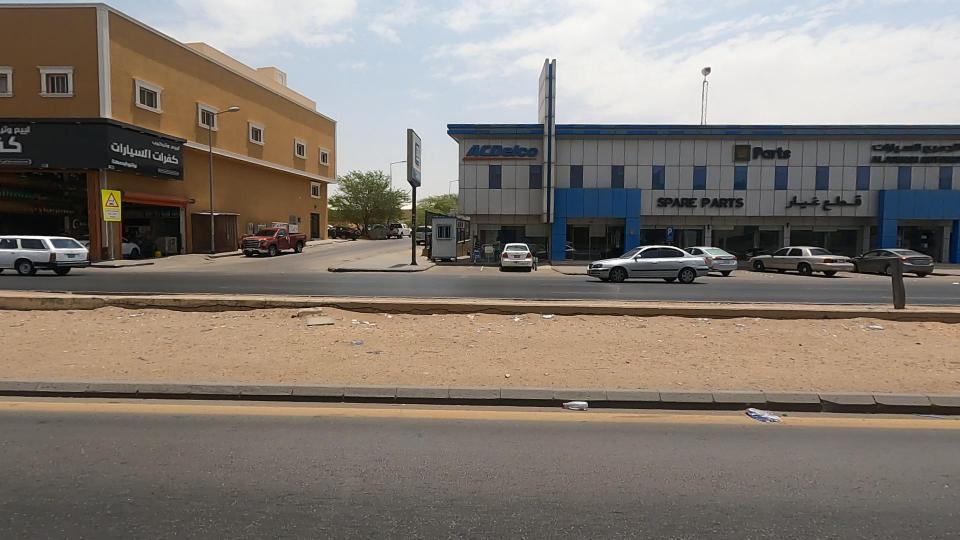CLUTTER_SIDEWALK: (322, 262, 767, 426), (63, 241, 483, 407)
GARBAGE: (232, 268, 431, 390), (700, 349, 823, 491), (499, 368, 642, 431), (830, 298, 921, 362)
